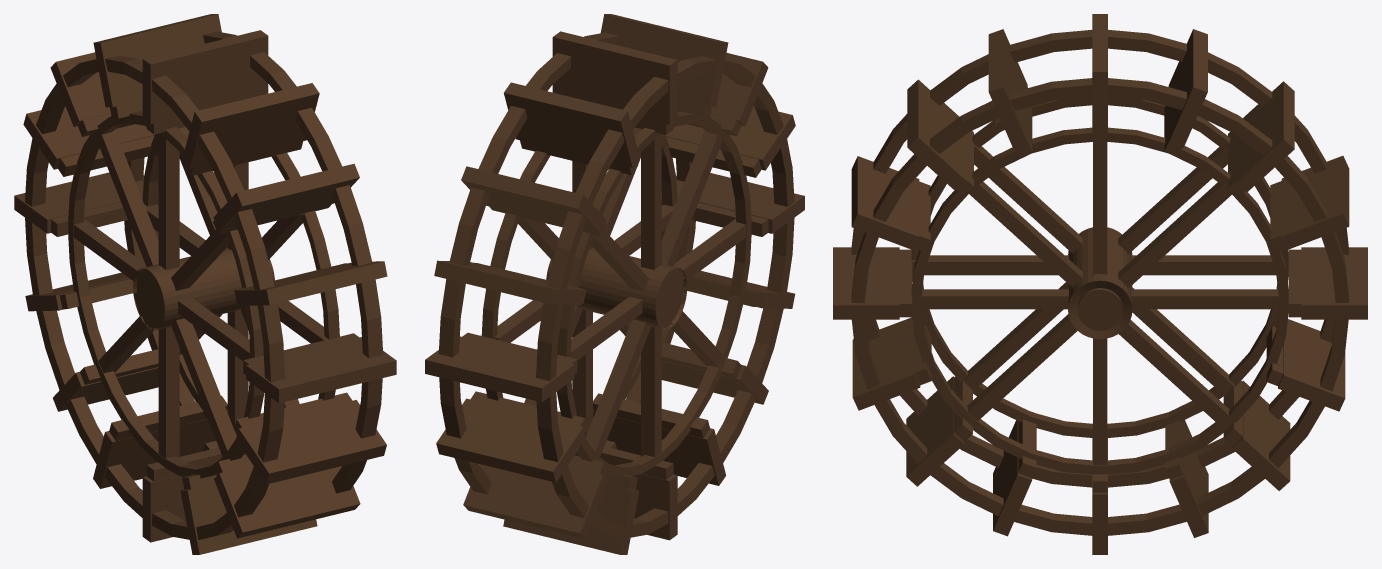
The model's file is Waterrad 2.fbx.
3 views of the same model, side by side, from view 1: azimuth 30°, elevation 25°; view 2: azimuth 150°, elevation 25°; view 3: azimuth 270°, elevation 25° (orthographic).
Parts seen in each view (by area): view 1: Cube.010; view 2: Cube.010; view 3: Cube.010.
Part boxes in pixels (x1=…): Cube.010: x1=14, y1=14, x2=396, y2=554; Cube.010: x1=425, y1=14, x2=804, y2=554; Cube.010: x1=833, y1=14, x2=1367, y2=554.
Size of the model in its own units: 449 by 1739 by 1746.
